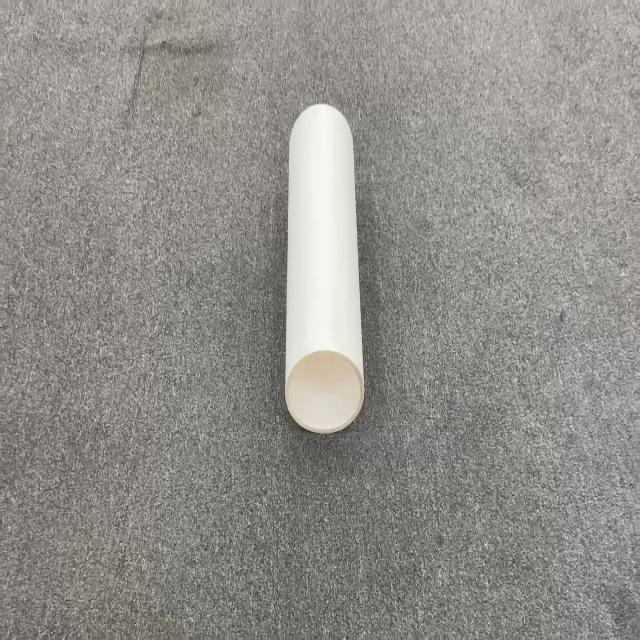coral: (283, 101, 365, 434)
